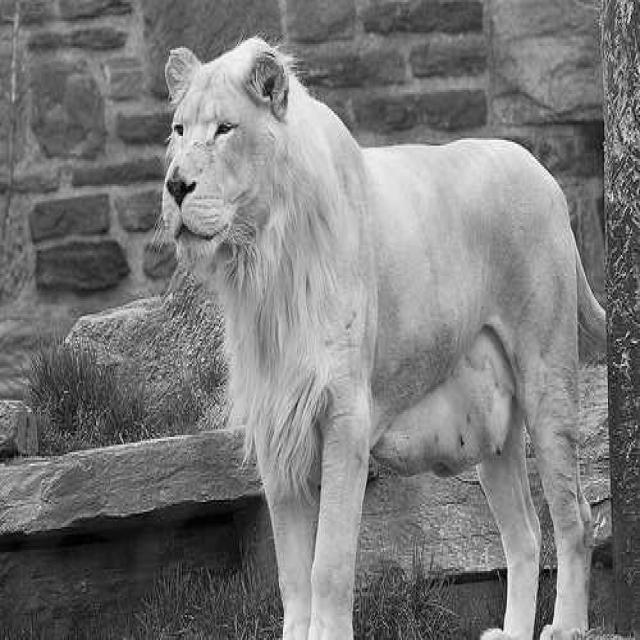Lion: (152, 31, 389, 407)
